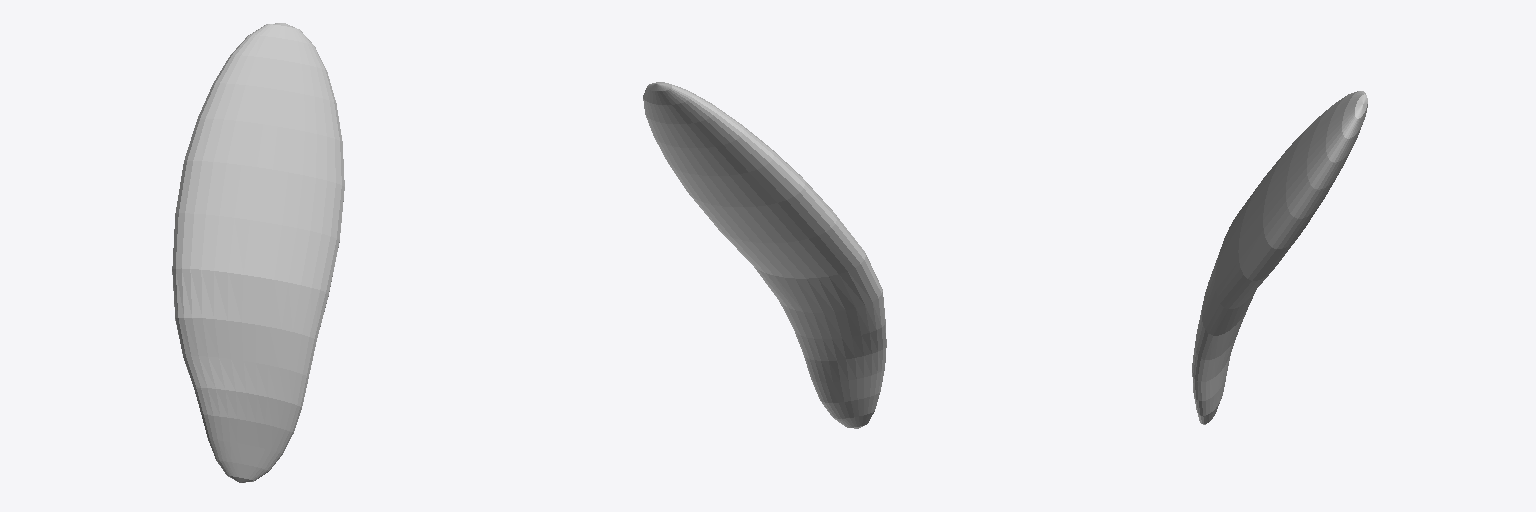
File: Cabo_Aleta_Derecha.obj
The picture shows the model from 3 angles: view 1: azimuth 30°, elevation 25°; view 2: azimuth 150°, elevation 25°; view 3: azimuth 270°, elevation 25°; orthographic projection.
Parts seen in each view (by area): view 1: Cabo_Aleta_Derecha; view 2: Cabo_Aleta_Derecha; view 3: Cabo_Aleta_Derecha.
Boxes of the visible parts, box(x1,y1,x2,y2) form: Cabo_Aleta_Derecha: box(172, 23, 344, 482); Cabo_Aleta_Derecha: box(643, 82, 886, 428); Cabo_Aleta_Derecha: box(1192, 91, 1367, 424).
Bounding box in the file's own units: 3.29 × 6.08 × 2.58.